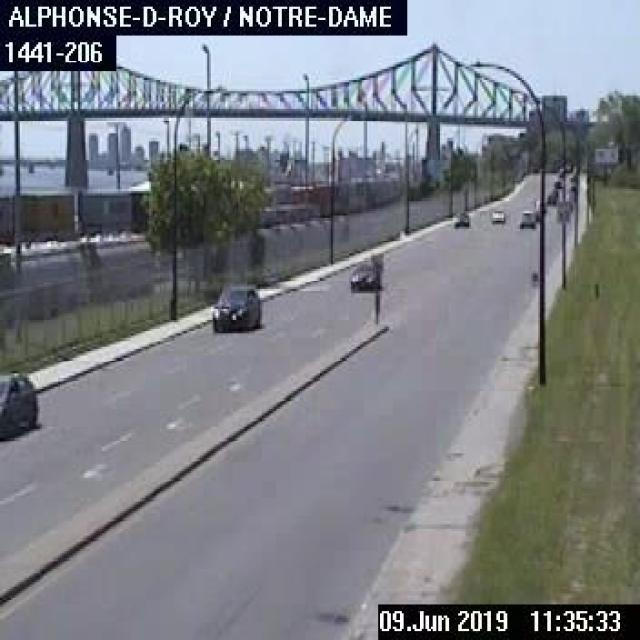vehicle: (209, 280, 262, 329), (0, 369, 36, 440), (347, 258, 382, 289), (451, 209, 469, 224), (489, 207, 506, 220), (520, 209, 533, 224)
